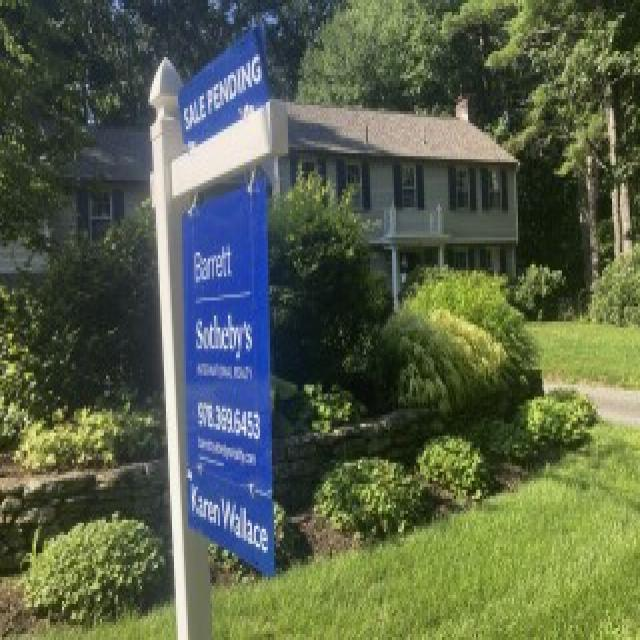House: (0, 94, 519, 308)
